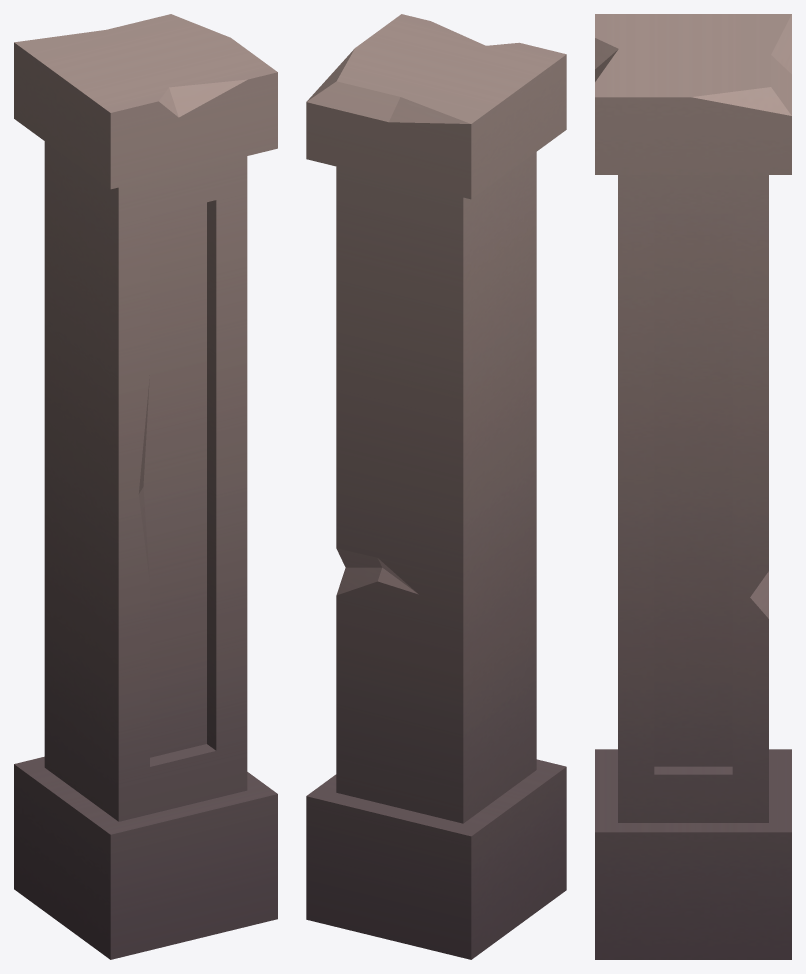
The model's file is fenceBCorner2.glb.
The picture shows the model from 3 angles, left to right: view 1: azimuth 30°, elevation 25°; view 2: azimuth 150°, elevation 25°; view 3: azimuth 270°, elevation 25°; orthographic projection. The views are drawn at different scales.
Parts seen in each view (by area): view 1: fenceBCorner3; view 2: fenceBCorner3; view 3: fenceBCorner3.
Boxes of the visible parts, box(x1,y1,x2,y2) form: fenceBCorner3: box(14, 14, 277, 959); fenceBCorner3: box(306, 14, 566, 959); fenceBCorner3: box(595, 14, 791, 959).
Size of the model in its own units: 0.359 by 1.74 by 0.359.
Materials: 1 (1 with a texture image).
